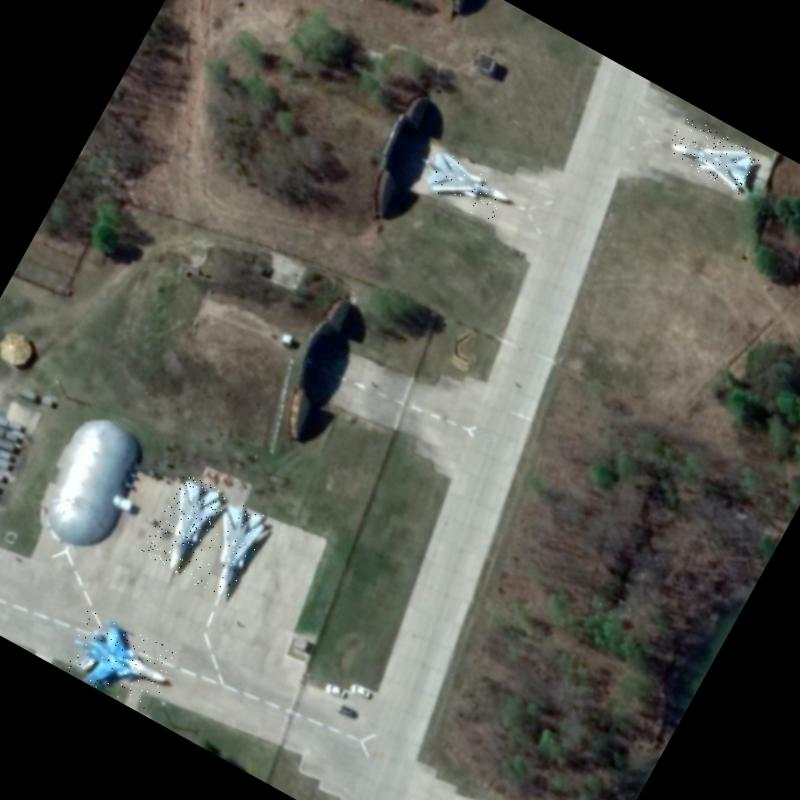A19: (56, 604, 180, 715)
A20: (182, 494, 272, 602), (139, 471, 227, 576), (415, 144, 515, 226), (663, 113, 762, 195)
